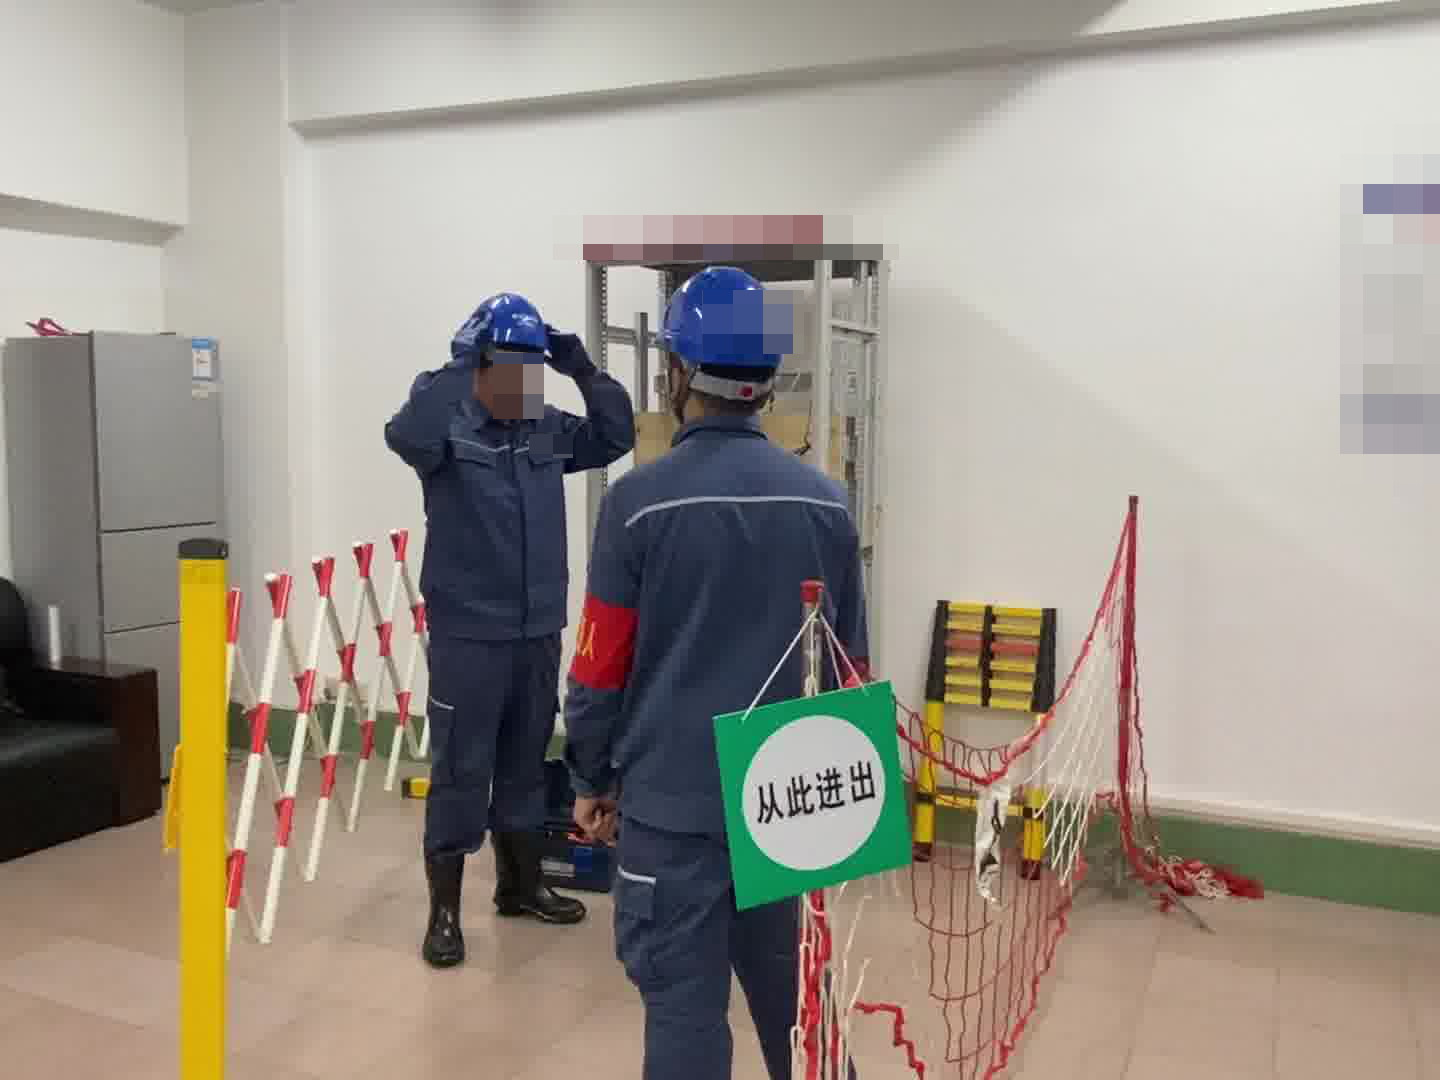badge: (569, 594, 641, 693)
downsuit: (618, 840, 806, 1076), (420, 649, 557, 860)
fhalt: (451, 293, 553, 411)
glove: (542, 326, 594, 371), (449, 310, 494, 359)
halt: (657, 263, 789, 417)
hand: (574, 796, 623, 848)
inear: (661, 353, 692, 405)
intosign: (705, 685, 910, 896)
person: (558, 258, 875, 1080), (385, 290, 618, 989)
shoe: (489, 825, 575, 924), (420, 851, 468, 962)
upsuit: (567, 427, 851, 828), (389, 364, 630, 630)
